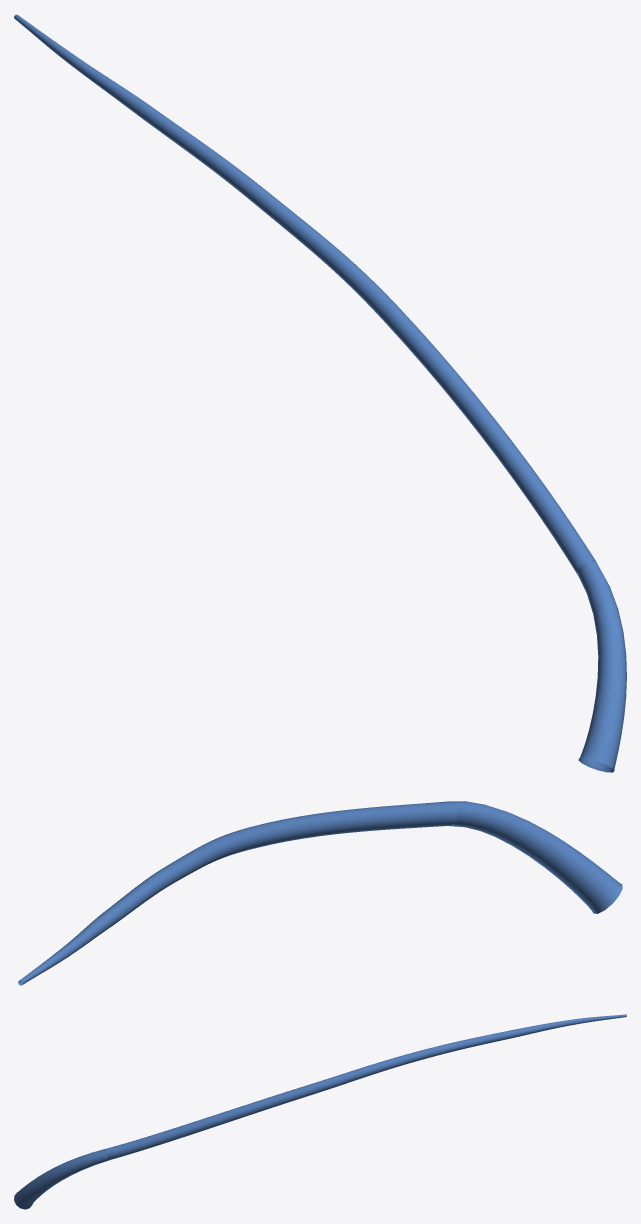
3 views of the same model, one above another, from view 1: azimuth 30°, elevation 25°; view 2: azimuth 150°, elevation 25°; view 3: azimuth 270°, elevation 25° (orthographic). The views are drawn at different scales.
Parts seen in each view (by area): view 1: 右侧肩胛下静脉; view 2: 右侧肩胛下静脉; view 3: 右侧肩胛下静脉.
Part boxes in pixels (x1,y1,x2,y2): 右侧肩胛下静脉: [14, 14, 626, 772]; 右侧肩胛下静脉: [18, 801, 622, 985]; 右侧肩胛下静脉: [14, 1014, 626, 1209].
Size of the model in its own units: 0.0135 by 0.0448 by 0.1323.
